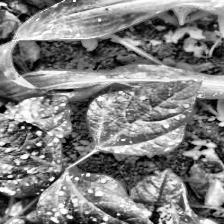Bean Rust: (94, 88, 200, 157), (37, 169, 159, 224), (0, 110, 62, 194), (7, 91, 72, 141)
